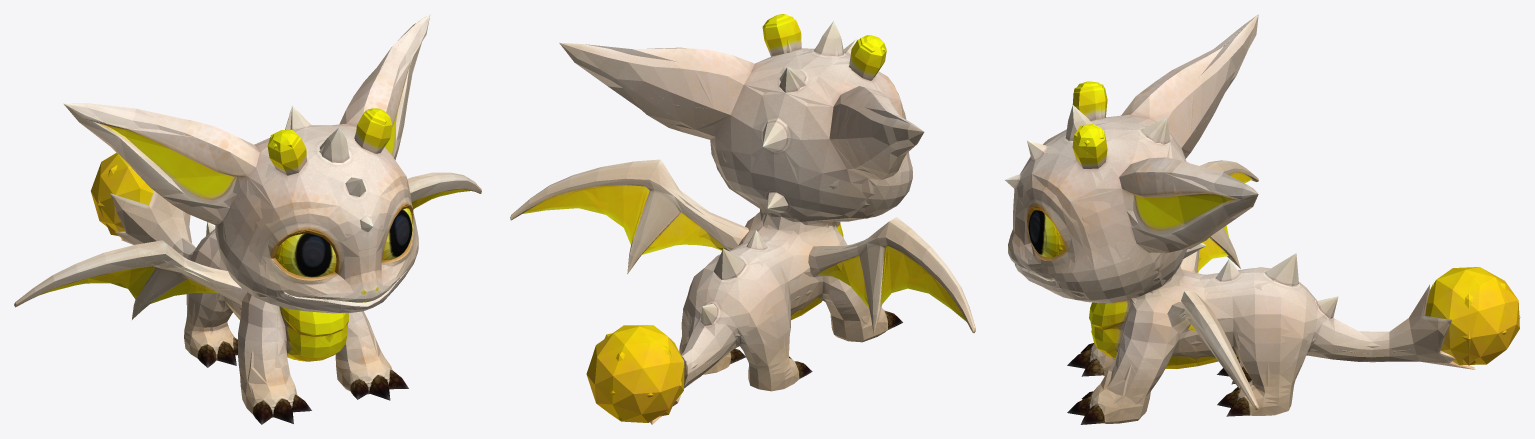
The model's file is dragon.glb.
3 views of the same model, side by side, from view 1: azimuth 30°, elevation 25°; view 2: azimuth 150°, elevation 25°; view 3: azimuth 270°, elevation 25° (orthographic).
Size of the model in its own units: 1.8 by 1.05 by 1.71.
Materials: 1 (1 with a texture image).
